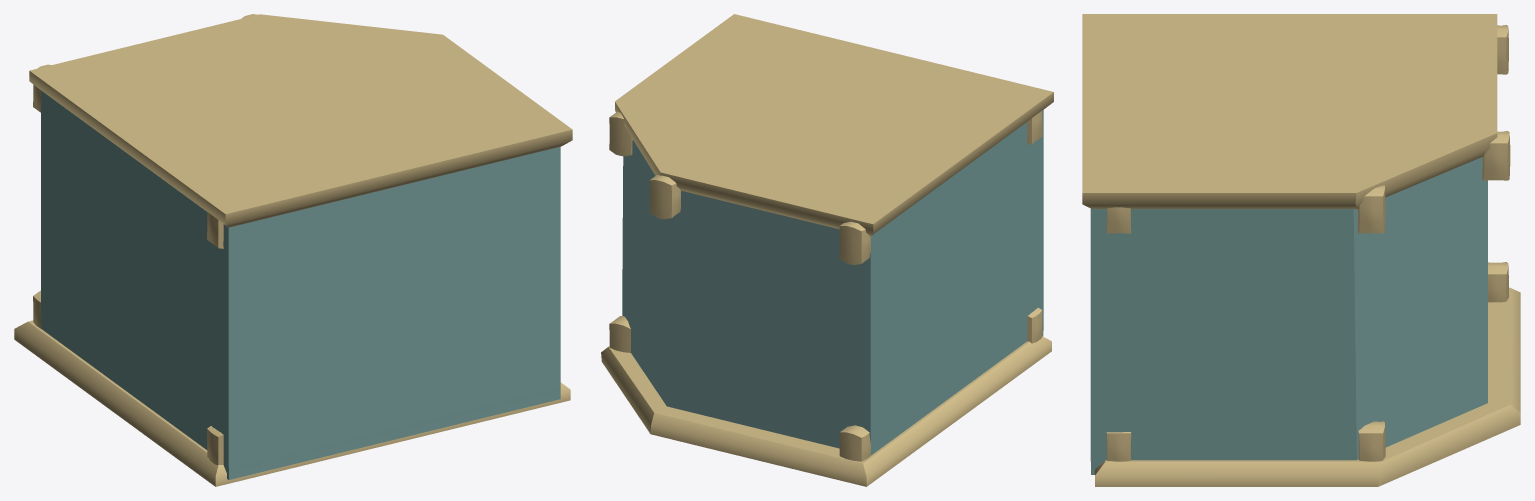
The model's file is house  simple.fbx.
The picture shows the model from 3 angles, left to right: view 1: azimuth 30°, elevation 25°; view 2: azimuth 150°, elevation 25°; view 3: azimuth 270°, elevation 25°; orthographic projection. The views are drawn at different scales.
Visible parts, largest first — view 1: House_Corner_box.002, ro0f.002, FLOOR.002; view 2: House_Corner_box.002, ro0f.002, FLOOR.002, pasted__Brick3, pasted__Brick4, pasted__Brick4.001, pasted__Brick2, pasted__Brick2.001, pasted__Brick.001; view 3: House_Corner_box.002, ro0f.002, FLOOR.002, pasted__Brick3, pasted__Brick2, pasted__Brick2.001, pasted__Brick4.001, pasted__Brick1.001, pasted__Brick1, pasted__Brick4.
Boxes of the visible parts, x1=… form: House_Corner_box.002: x1=41, y1=90, x2=560, y2=479; ro0f.002: x1=29, y1=14, x2=572, y2=227; FLOOR.002: x1=14, y1=320, x2=570, y2=486; House_Corner_box.002: x1=622, y1=110, x2=1043, y2=455; ro0f.002: x1=615, y1=14, x2=1053, y2=236; FLOOR.002: x1=601, y1=336, x2=1051, y2=486; pasted__Brick3: x1=649, y1=174, x2=680, y2=219; pasted__Brick4: x1=839, y1=221, x2=870, y2=264; pasted__Brick4.001: x1=839, y1=425, x2=870, y2=461; pasted__Brick2: x1=609, y1=111, x2=632, y2=156; pasted__Brick2.001: x1=609, y1=315, x2=630, y2=352; pasted__Brick.001: x1=1027, y1=307, x2=1042, y2=343; House_Corner_box.002: x1=1090, y1=157, x2=1487, y2=474; ro0f.002: x1=1082, y1=14, x2=1497, y2=209; FLOOR.002: x1=1095, y1=287, x2=1520, y2=486; pasted__Brick3: x1=1482, y1=131, x2=1510, y2=180; pasted__Brick2: x1=1358, y1=185, x2=1385, y2=233; pasted__Brick2.001: x1=1358, y1=421, x2=1385, y2=461; pasted__Brick4.001: x1=1488, y1=262, x2=1508, y2=302; pasted__Brick1.001: x1=1106, y1=432, x2=1131, y2=461; pasted__Brick1: x1=1106, y1=207, x2=1131, y2=233; pasted__Brick4: x1=1497, y1=25, x2=1508, y2=74.
Size of the model in its own units: 144 by 107 by 146.
